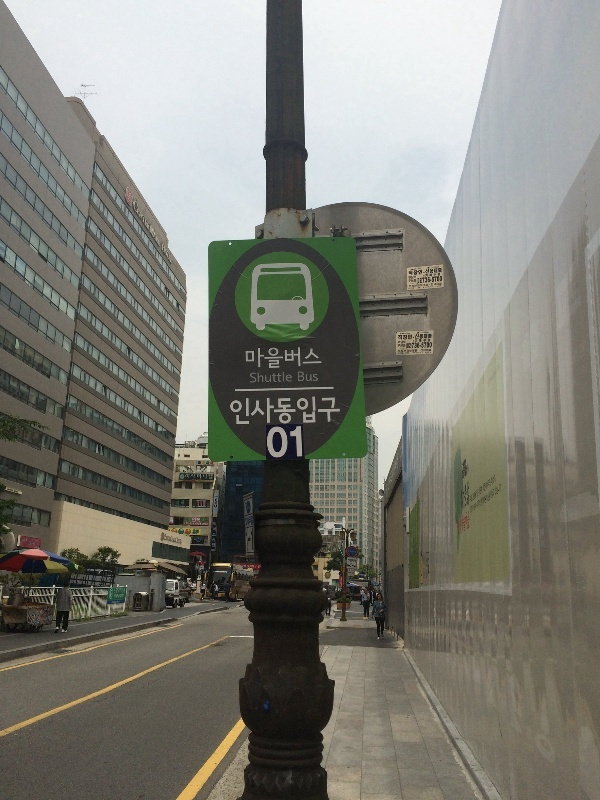text: (145, 199, 160, 266), (161, 199, 173, 266), (134, 199, 144, 266), (481, 472, 496, 515), (273, 423, 288, 463), (289, 423, 304, 463), (241, 394, 256, 429), (257, 394, 272, 429), (273, 394, 288, 429), (289, 394, 304, 429), (305, 394, 320, 429), (321, 394, 336, 429), (469, 472, 480, 515), (257, 347, 272, 371), (273, 347, 288, 371), (289, 347, 304, 371), (305, 347, 320, 371), (230, 394, 240, 429), (213, 522, 224, 548), (246, 527, 256, 553), (257, 371, 272, 387), (273, 371, 288, 387), (246, 347, 256, 371), (457, 508, 464, 539), (497, 472, 502, 515), (267, 423, 272, 463), (305, 370, 319, 384), (337, 394, 342, 429), (465, 478, 470, 512), (114, 588, 128, 600), (465, 508, 470, 539), (417, 341, 432, 351), (245, 514, 256, 527), (460, 478, 464, 512), (417, 276, 432, 285), (417, 333, 432, 340), (193, 517, 208, 524), (193, 529, 208, 536), (406, 341, 416, 351), (297, 370, 304, 384), (250, 371, 256, 387), (433, 276, 443, 285), (193, 474, 208, 480), (177, 500, 192, 506), (401, 334, 413, 341), (215, 499, 224, 508), (417, 338, 431, 343), (197, 501, 208, 507), (289, 371, 293, 387), (433, 268, 442, 275), (184, 517, 192, 524), (409, 269, 416, 276), (425, 268, 432, 275), (417, 269, 423, 276), (185, 474, 192, 480), (209, 474, 214, 480), (321, 347, 322, 371), (110, 590, 112, 599), (399, 334, 400, 341), (415, 333, 416, 340), (415, 338, 416, 343)
